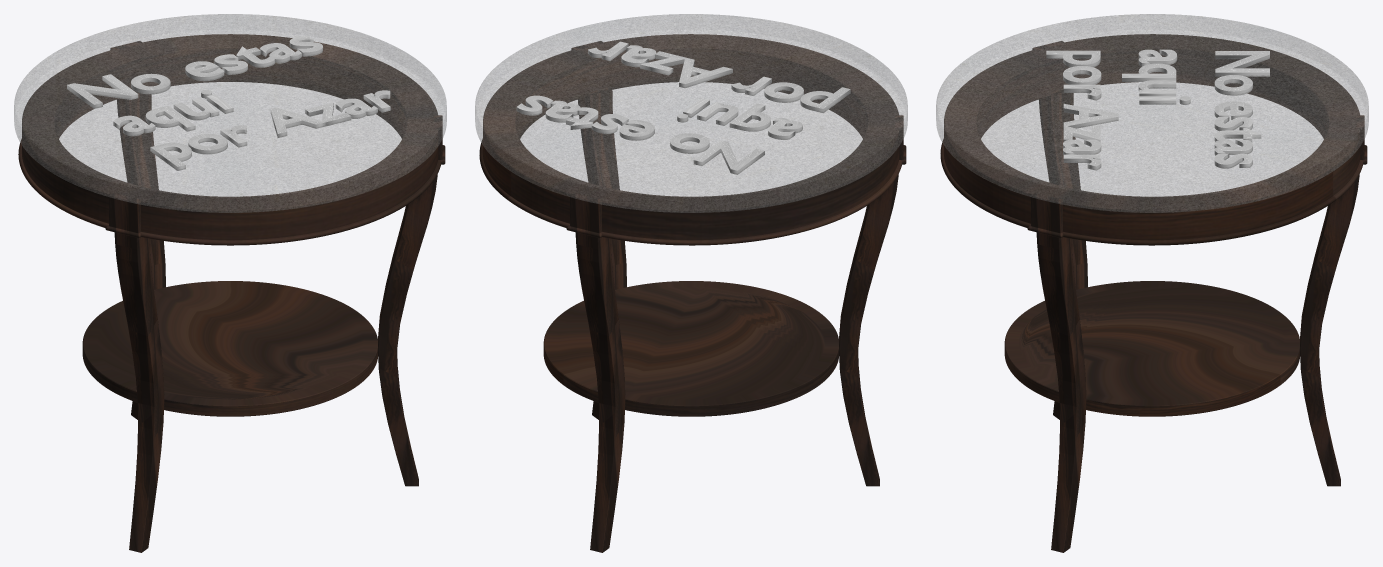
Rendered from liz11.glb.
3 renders of one model, left to right at view 1: azimuth 30°, elevation 25°; view 2: azimuth 150°, elevation 25°; view 3: azimuth 270°, elevation 25°, orthographic.
Parts seen in each view (by area): view 1: Table Gueridon N220622, Text; view 2: Table Gueridon N220622, Text; view 3: Table Gueridon N220622, Text.
Boxes of the visible parts, x1=… form: Table Gueridon N220622: x1=14, y1=14, x2=446, y2=552; Text: x1=67, y1=36, x2=390, y2=170; Table Gueridon N220622: x1=475, y1=14, x2=907, y2=552; Text: x1=516, y1=41, x2=850, y2=174; Table Gueridon N220622: x1=936, y1=14, x2=1368, y2=552; Text: x1=1046, y1=49, x2=1269, y2=170.
Size of the model in its own units: 1.13 by 1.1 by 1.13.
Materials: 3 (3 with a texture image).
